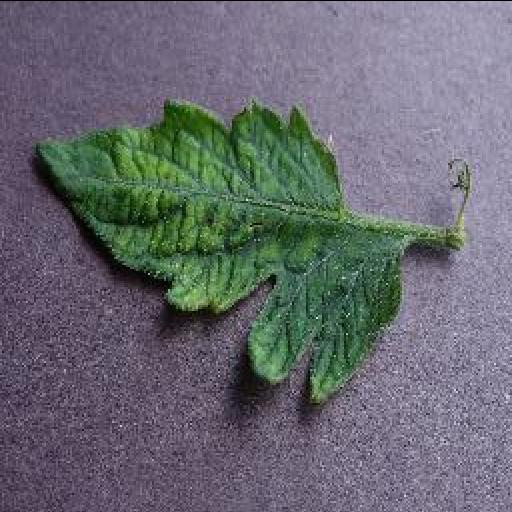disease_tomato: (35, 98, 399, 408)
